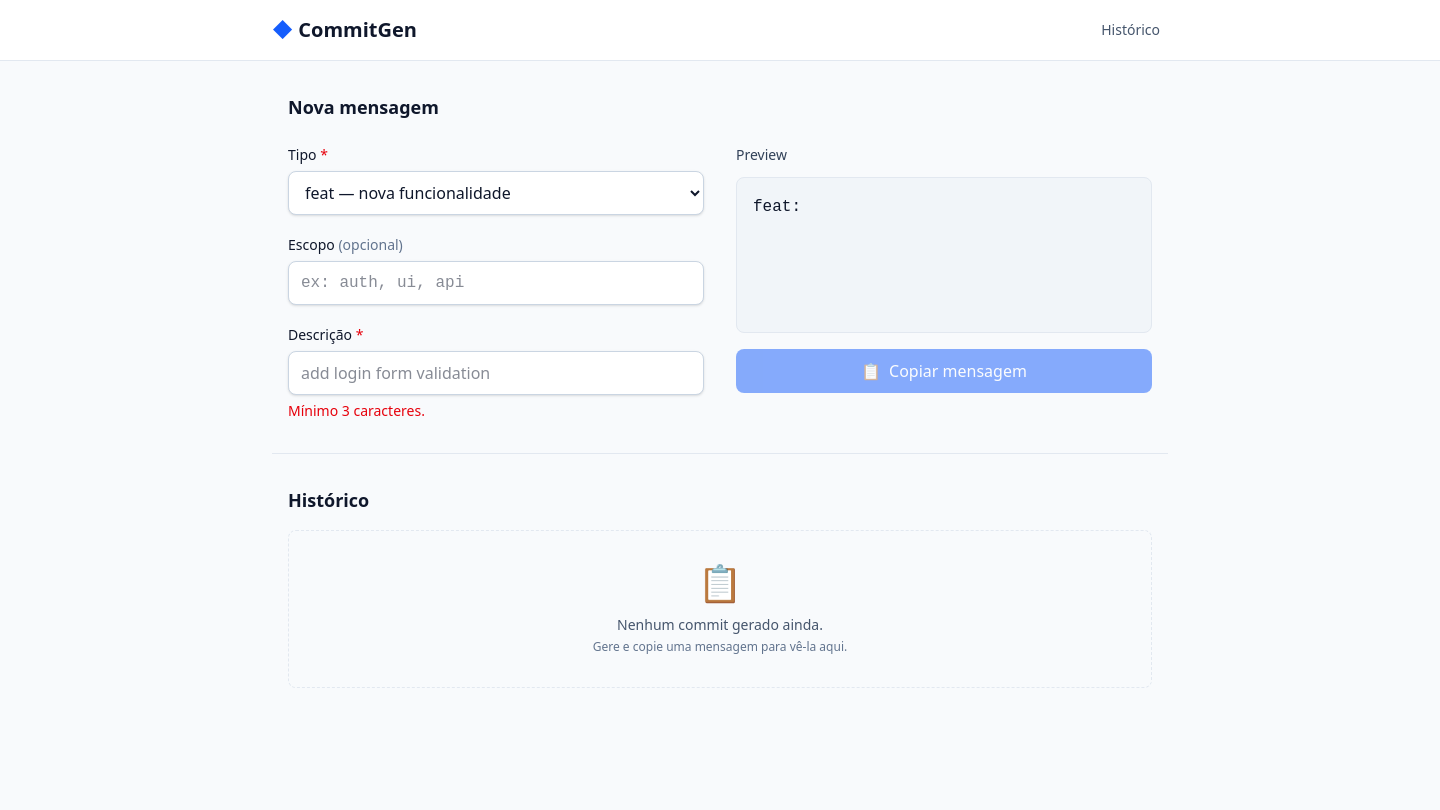
Test: App › saves to history after successful copy
Type "add history test" into the field labelled "Descrição *" at x=496, y=373, box [288,351,704,395]
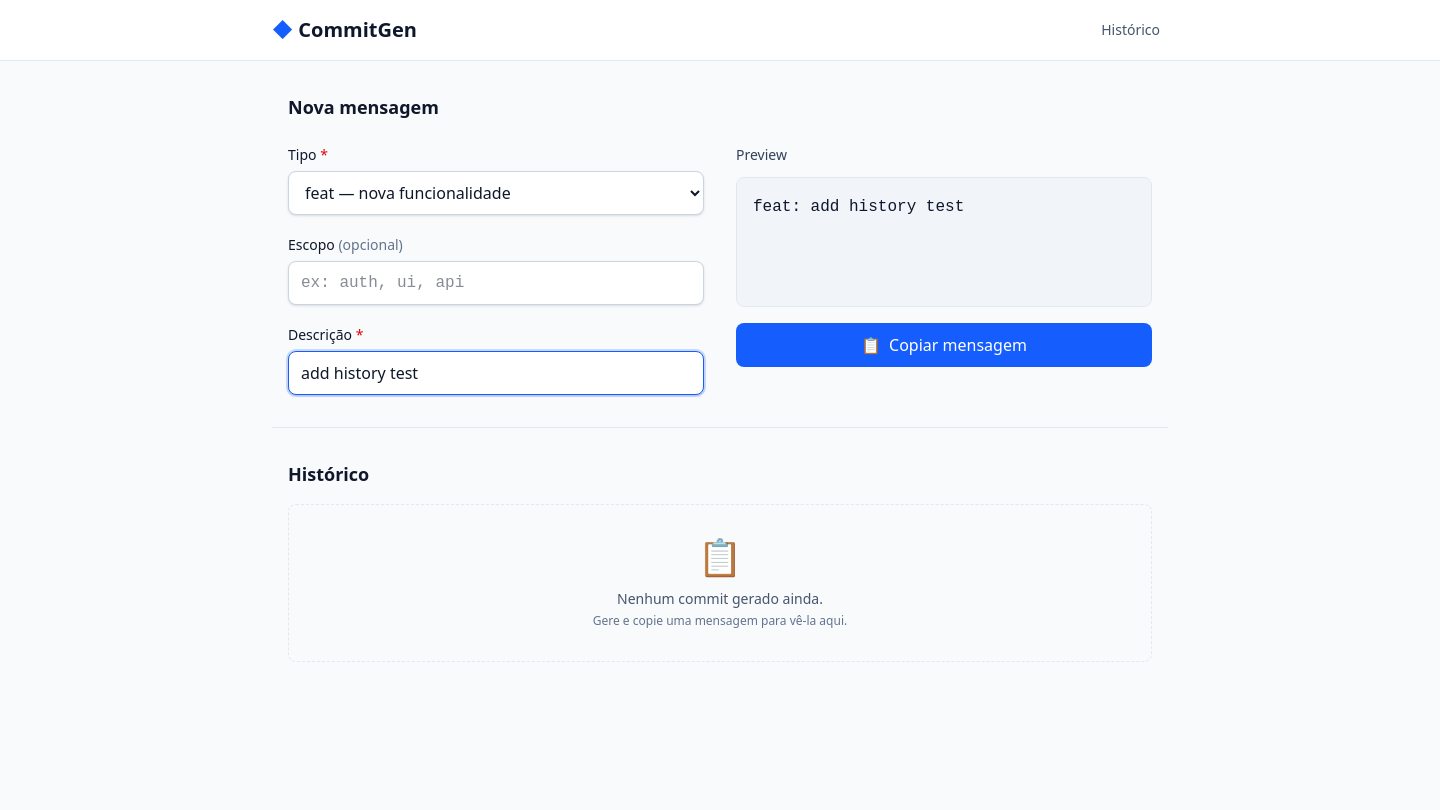
Click the button "📋 Copiar mensagem" at x=944, y=345, box [736,323,1152,367]
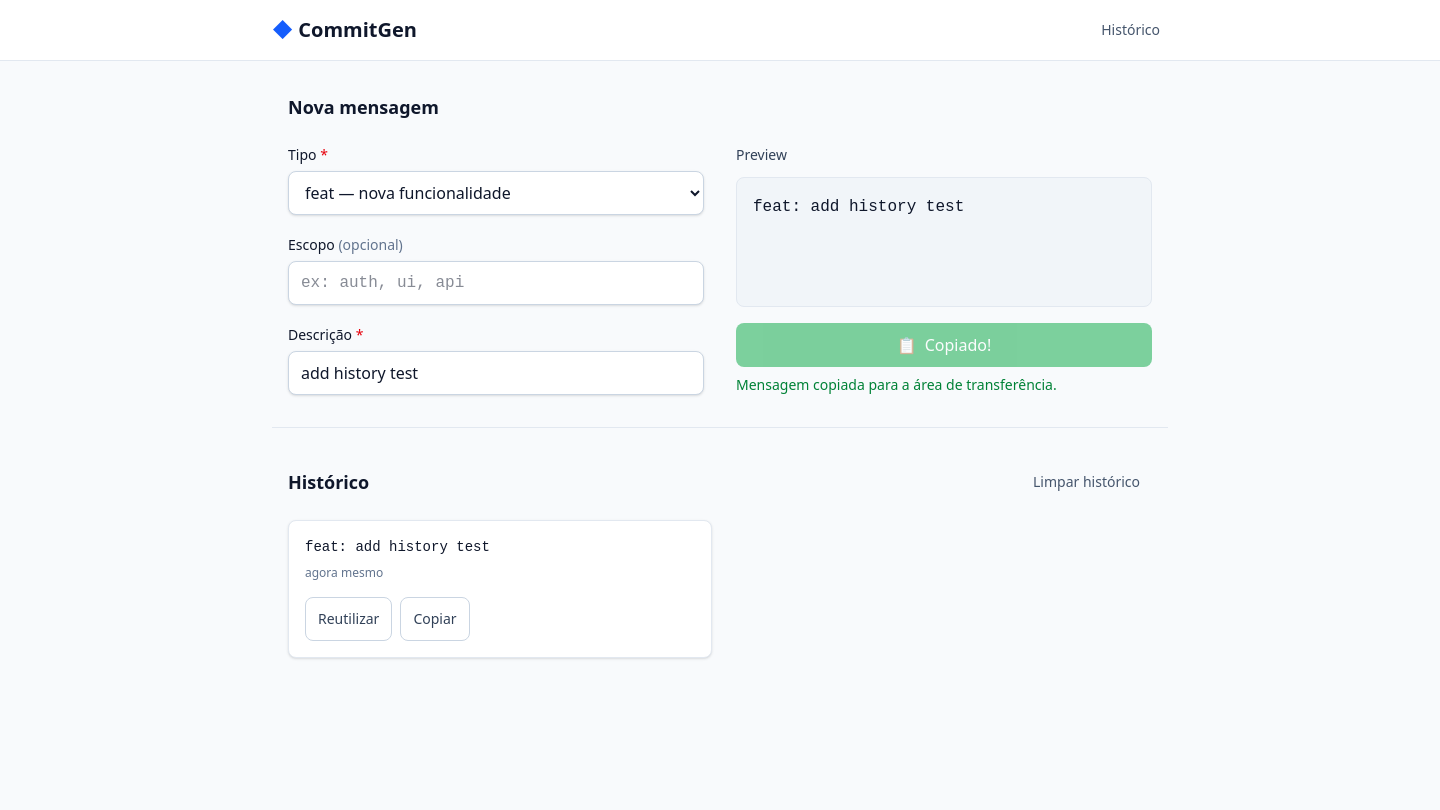
Now the 2nd text "feat: add history test" is shown, box [305,539,490,555]
